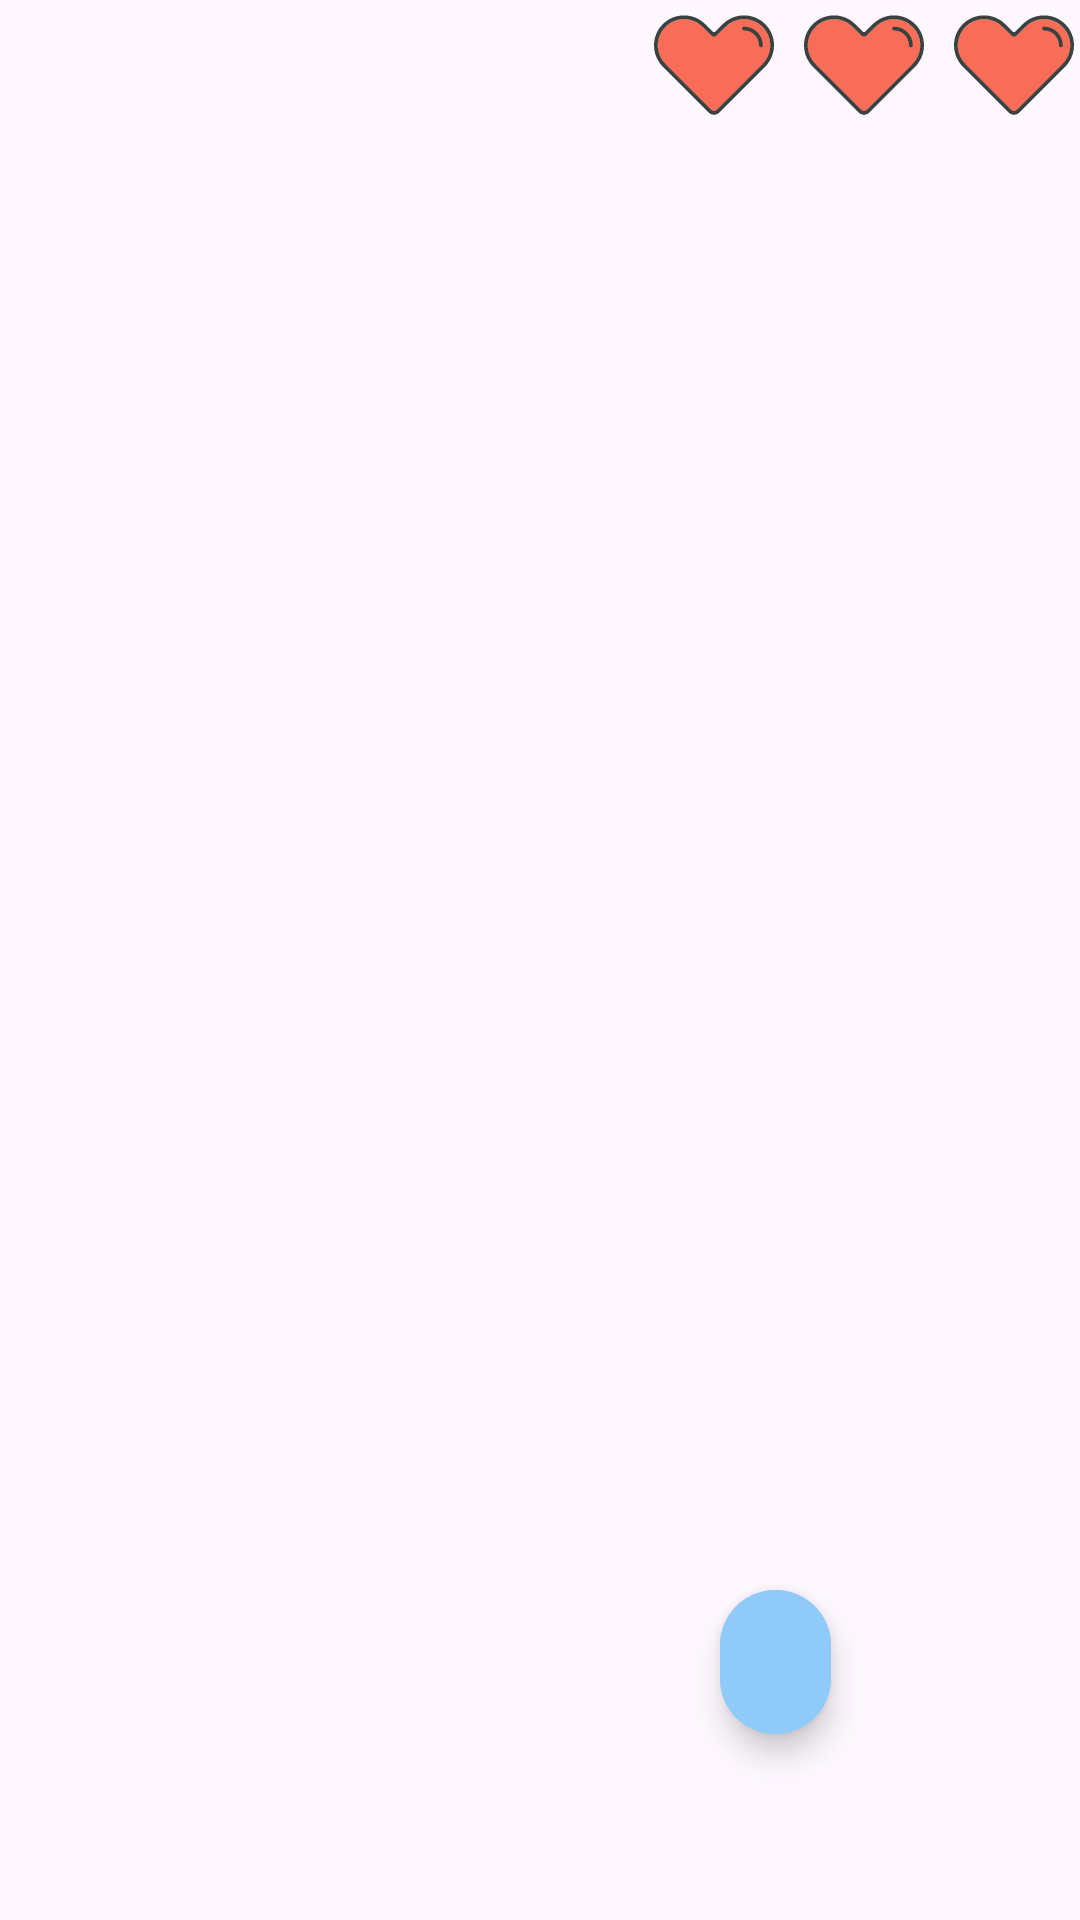

Screen size 1080*1920. Icon name, then its box in pixels as (x1, y1, x2, y2):
live: (654, 15, 774, 115), (804, 15, 924, 115), (954, 15, 1074, 115)
